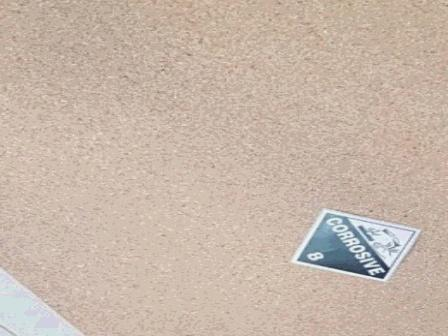corrosive: (292, 210, 420, 279)
